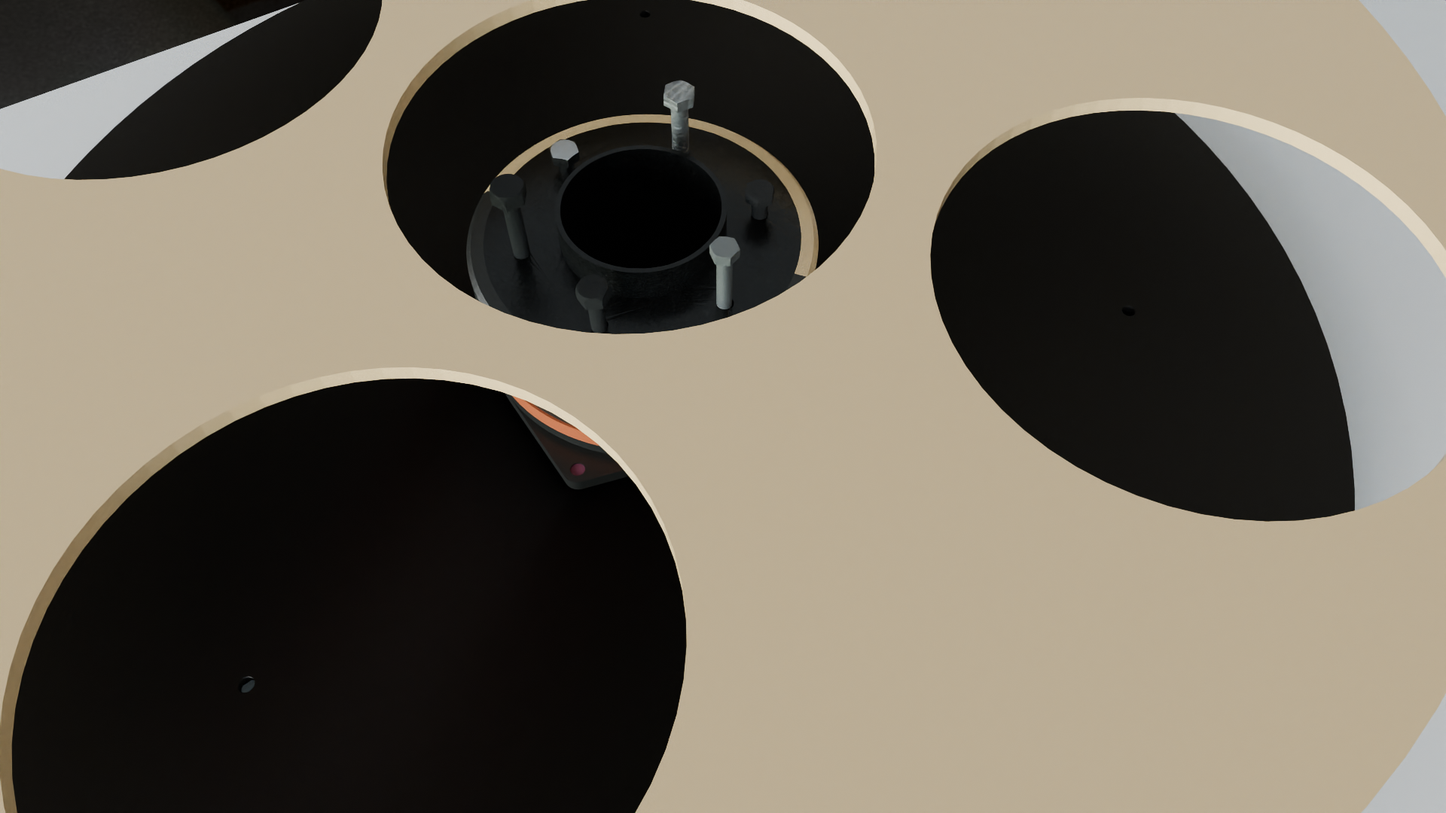bolt: (490, 174, 525, 202), (575, 275, 610, 302), (709, 236, 740, 260), (664, 80, 694, 104), (746, 178, 774, 202), (549, 139, 578, 160)
